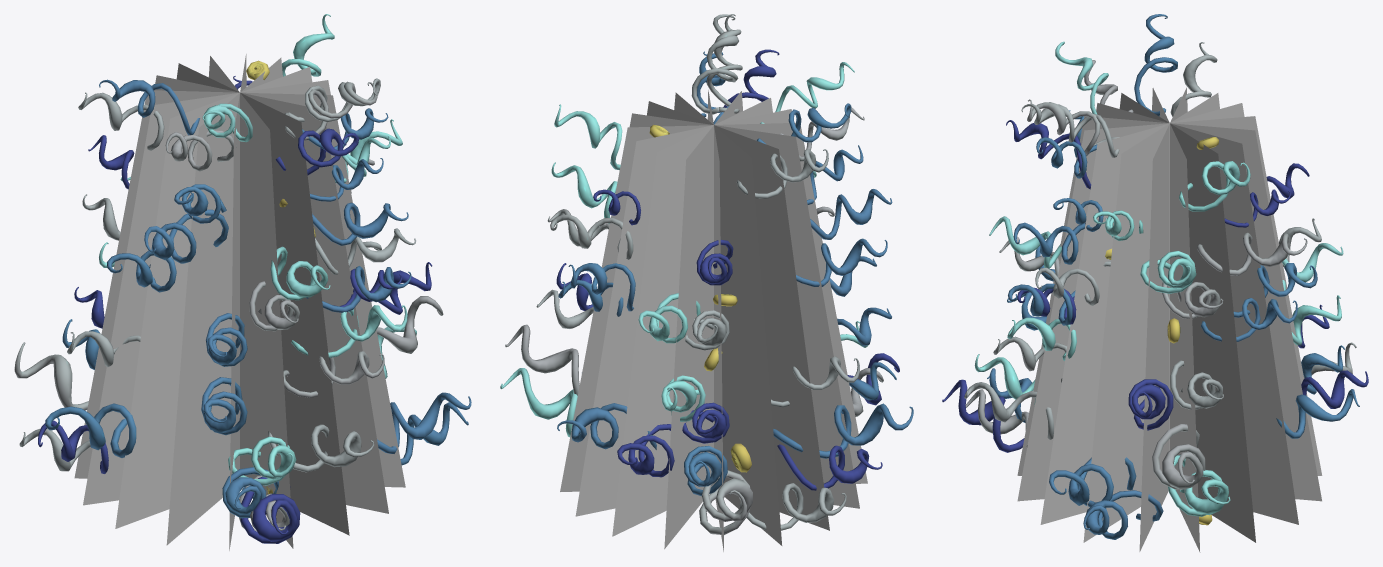
The model's file is MidDecor2.fbx.
The picture shows the model from 3 angles, left to right: view 1: azimuth 30°, elevation 25°; view 2: azimuth 150°, elevation 25°; view 3: azimuth 270°, elevation 25°; orthographic projection. The views are drawn at different scales.
Visible parts, largest first — view 1: MidDecor2_LOD0; view 2: MidDecor2_LOD0; view 3: MidDecor2_LOD0.
Boxes of the visible parts, left/top/right/bottom form: MidDecor2_LOD0: left=14, top=14, right=471, bottom=550; MidDecor2_LOD0: left=500, top=14, right=913, bottom=551; MidDecor2_LOD0: left=942, top=14, right=1368, bottom=552.
Size of what is drawn, in the model's own units: 238 by 245 by 227.
